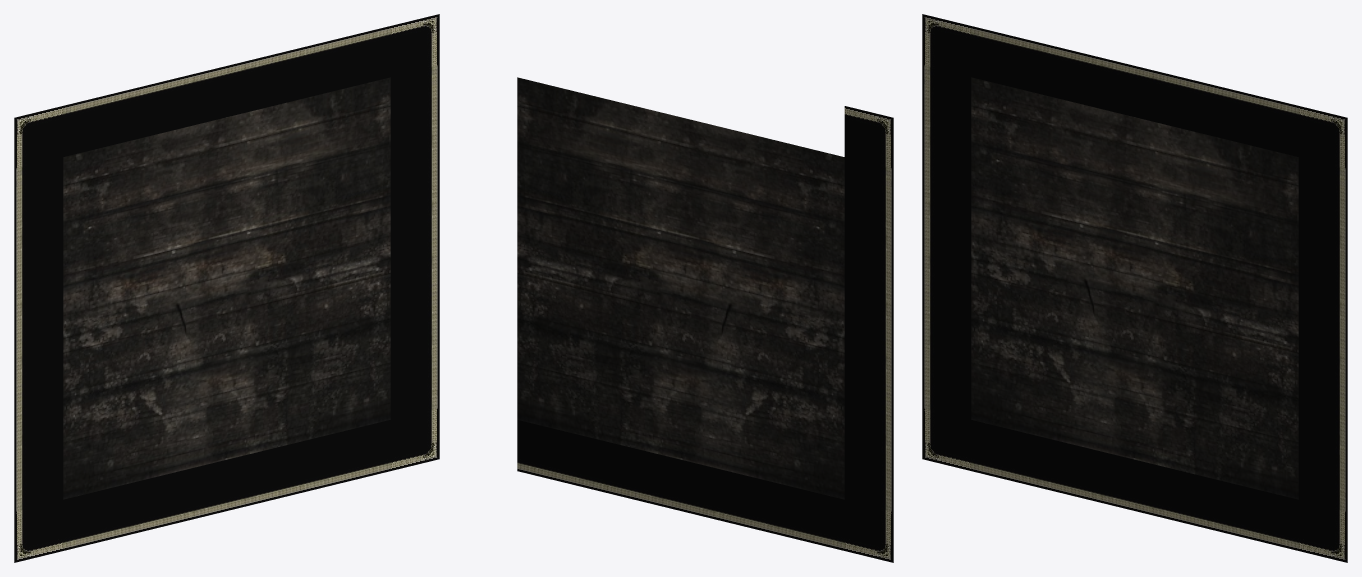
The model's file is general_frame_f.fbx.
3 renders of one model, left to right at view 1: azimuth 30°, elevation 25°; view 2: azimuth 150°, elevation 25°; view 3: azimuth 330°, elevation 25°, orthographic.
Visible parts, largest first — view 1: MiddleMesh, Leftmesh, Rightmesh, TopMesh, BottomMesh, TopLeftmesh, BottomRightMesh, TopRightMesh, BottomLeftMesh; view 2: MiddleMesh, Leftmesh, BottomMesh, TopLeftmesh, BottomLeftMesh; view 3: MiddleMesh, Leftmesh, Rightmesh, TopMesh, BottomMesh, TopRightMesh, BottomLeftMesh, TopLeftmesh, BottomRightMesh.
Part boxes in pixels (x1,y1,x2,y2): MiddleMesh: (63,77,390,499); Leftmesh: (14,157,63,511); Rightmesh: (390,65,439,419); TopMesh: (63,26,390,156); BottomMesh: (63,420,390,550); TopLeftmesh: (14,106,63,168); BottomRightMesh: (390,408,439,470); TopRightMesh: (390,14,439,76); BottomLeftMesh: (14,500,63,562); MiddleMesh: (517,77,844,499); Leftmesh: (844,157,893,511); BottomMesh: (517,420,844,550); TopLeftmesh: (844,106,893,168); BottomLeftMesh: (844,500,893,562); MiddleMesh: (971,77,1298,499); Leftmesh: (922,65,971,419); Rightmesh: (1298,157,1347,511); TopMesh: (971,26,1298,156); BottomMesh: (971,420,1298,550); TopRightMesh: (1298,106,1347,168); BottomLeftMesh: (922,408,971,470); TopLeftmesh: (922,14,971,76); BottomRightMesh: (1298,500,1347,562).
Size of the model in its own units: 130 by 130 by 2.13e-05.
Materials: 3 (3 with a texture image).
